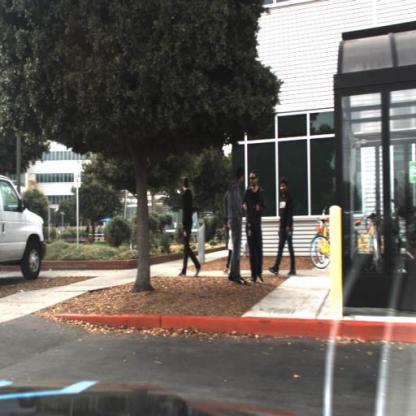car: (2, 173, 49, 285)
pedestrian: (178, 163, 203, 282), (223, 166, 246, 294), (269, 177, 296, 280), (246, 172, 269, 284)
truck: (1, 170, 51, 287)
